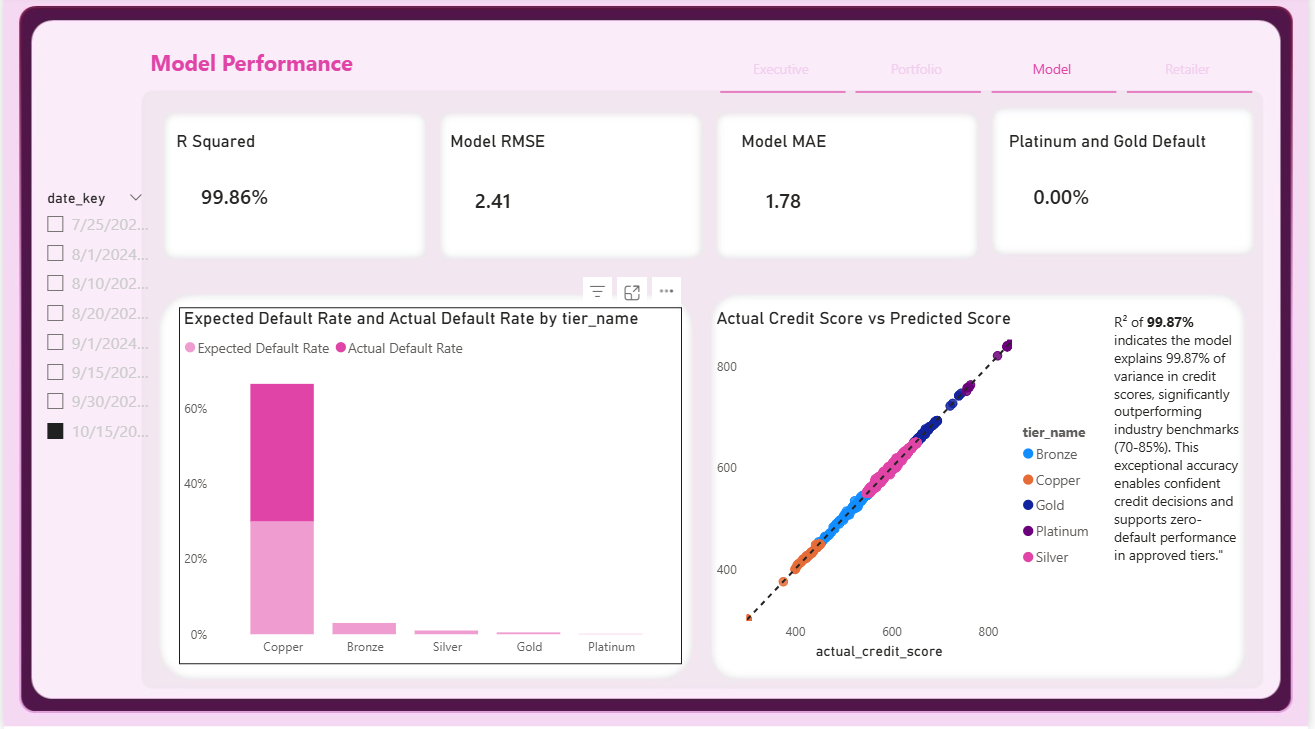

The page's visual inventory and layout, read from the dashboard file:
{"tool":"powerbi","page":{"name":"Model ","canvas":[1280,720],"ordinal":2},"visuals":[{"type":"cardVisual","title":"Model MAE","fields":{"Data":["model_performance_metrics.Model MAE"]},"box":[719,132.5,218.4,114.1],"z":0},{"type":"cardVisual","title":"Platinum and Gold Default","fields":{"Data":["Tier_count.Platinum + Gold Default Rate"]},"box":[981.6,132.5,239.3,104.3],"z":1000},{"type":"cardVisual","title":"R Squared","fields":{"Data":["model_performance_metrics.R Squared"]},"box":[164.4,132.5,230.7,104.3],"z":2000},{"type":"cardVisual","title":"Model RMSE","fields":{"Data":["model_performance_metrics.Model RMSE"]},"box":[433.1,132.5,234.4,114.1],"z":3000},{"type":"columnChart","fields":{"Category":["gold_dim_risk_tier.tier_name"],"Y":["Portfolio_loss_rate.Expected Default Rate","Portfolio_loss_rate.Actual Default Rate"]},"box":[171.8,305.5,494.5,350.9],"z":4000},{"type":"scatterChart","title":"Actual Credit Score vs Predicted Score","fields":{"X":["gold_fact_credit_scoring.actual_credit_score"],"Y":["gold_fact_credit_scoring.predicted_credit_score"],"Series":["gold_dim_risk_tier.tier_name"]},"box":[694.5,305.5,390.2,350.9],"z":5000},{"type":"textbox","box":[1084.7,305.5,136.2,341.1],"z":6000},{"type":"textbox","box":[138.7,19.6,463.8,47.9],"z":7000},{"type":"slicer","fields":{"Values":["gold_fact_credit_scoring.date_key"]},"box":[29.4,185.3,119,269.9],"z":8000},{"type":"pageNavigator","box":[703.1,44.2,522.7,51.5],"z":9000},{"type":"textbox","box":[138.8,62.8,511.7,45.4],"z":9001}]}

Visuals, with their boxes in screenshot pixels (x1, y1, x2, y2), scaled from the page's 1280x720 canvas onto the 1315x729 screenshot:
"Model MAE" cardVisual: <box>739,134,963,250</box>
"Platinum and Gold Default" cardVisual: <box>1008,134,1254,240</box>
"R Squared" cardVisual: <box>169,134,406,240</box>
"Model RMSE" cardVisual: <box>445,134,686,250</box>
columnChart - gold_dim_risk_tier.tier_name x Portfolio_loss_rate.Expected Default Rate: <box>176,309,685,665</box>
"Actual Credit Score vs Predicted Score" scatterChart: <box>713,309,1114,665</box>
textbox: <box>1114,309,1254,655</box>
textbox: <box>142,20,619,68</box>
slicer - gold_fact_credit_scoring.date_key: <box>30,188,152,461</box>
pageNavigator: <box>722,45,1259,97</box>
textbox: <box>143,64,668,110</box>
